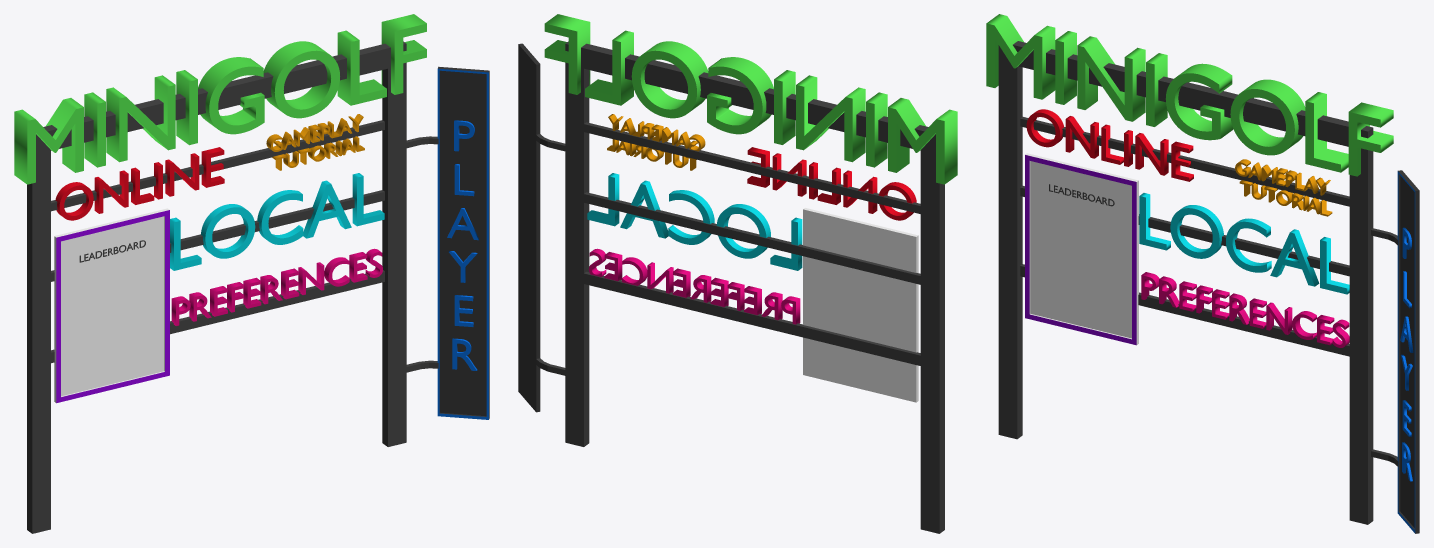
The model's file is main_menu.glb.
3 views of the same model, side by side, from view 1: azimuth 30°, elevation 25°; view 2: azimuth 150°, elevation 25°; view 3: azimuth 330°, elevation 25° (orthographic).
Visible parts, largest first — view 1: sign_body, minigolf, leaderboard_board, player_board, local, preferences, online, tutorial, player; view 2: sign_body, minigolf, leaderboard_board, player_board, local, preferences, online, tutorial; view 3: sign_body, minigolf, leaderboard_board, player_board, local, preferences, online, tutorial, player.
Boxes of the visible parts, left/top/right/bottom form: sign_body: left=27, top=41, right=438, bottom=533; minigolf: left=14, top=14, right=426, bottom=184; leaderboard_board: left=54, top=208, right=169, bottom=403; player_board: left=437, top=66, right=489, bottom=419; local: left=170, top=173, right=384, bottom=270; preferences: left=171, top=248, right=382, bottom=325; online: left=55, top=147, right=224, bottom=220; tutorial: left=266, top=114, right=364, bottom=170; player: left=447, top=120, right=478, bottom=370; sign_body: left=535, top=41, right=944, bottom=533; minigolf: left=544, top=14, right=957, bottom=184; leaderboard_board: left=803, top=208, right=918, bottom=402; player_board: left=518, top=43, right=540, bottom=412; local: left=587, top=173, right=802, bottom=270; preferences: left=588, top=248, right=800, bottom=324; online: left=747, top=147, right=916, bottom=220; tutorial: left=607, top=114, right=705, bottom=170; sign_body: left=998, top=41, right=1398, bottom=524; minigolf: left=986, top=14, right=1393, bottom=176; leaderboard_board: left=1025, top=153, right=1138, bottom=345; player_board: left=1397, top=170, right=1419, bottom=533; local: left=1139, top=193, right=1349, bottom=294; preferences: left=1141, top=272, right=1349, bottom=347; online: left=1026, top=109, right=1193, bottom=181; tutorial: left=1235, top=159, right=1332, bottom=216; player: left=1400, top=227, right=1413, bottom=481.
Bounding box in the file's own units: 46.39 × 41.17 × 6.61.
